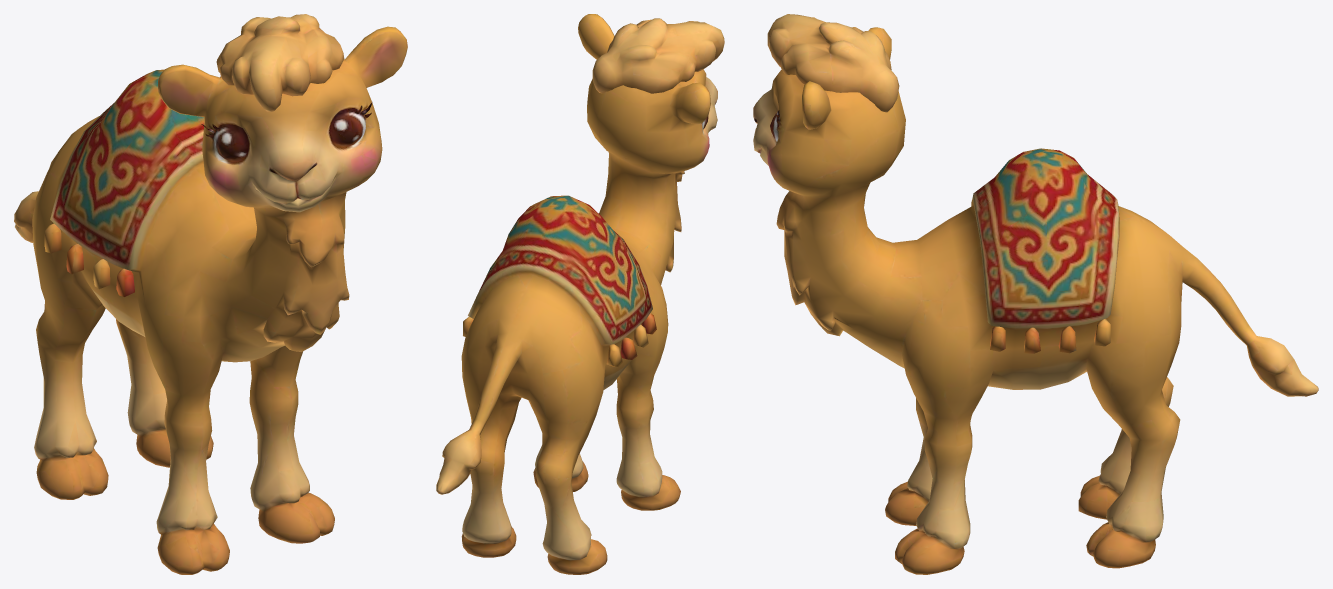
The model's file is camel.e61377bc.glb.
3 renders of one model, left to right at view 1: azimuth 30°, elevation 25°; view 2: azimuth 150°, elevation 25°; view 3: azimuth 270°, elevation 25°, orthographic. The views are drawn at different scales.
Visible parts, largest first — view 1: tripo_node_2900a1ac-5248-47fe-9b49-75bb7962ab67; view 2: tripo_node_2900a1ac-5248-47fe-9b49-75bb7962ab67; view 3: tripo_node_2900a1ac-5248-47fe-9b49-75bb7962ab67.
Boxes of the visible parts, left/top/right/bottom form: tripo_node_2900a1ac-5248-47fe-9b49-75bb7962ab67: left=14, top=14, right=407, bottom=574; tripo_node_2900a1ac-5248-47fe-9b49-75bb7962ab67: left=436, top=14, right=724, bottom=574; tripo_node_2900a1ac-5248-47fe-9b49-75bb7962ab67: left=753, top=14, right=1318, bottom=574.
Size of the model in its own units: 0.3809 by 0.9941 by 0.998.
Materials: 1 (1 with a texture image).
